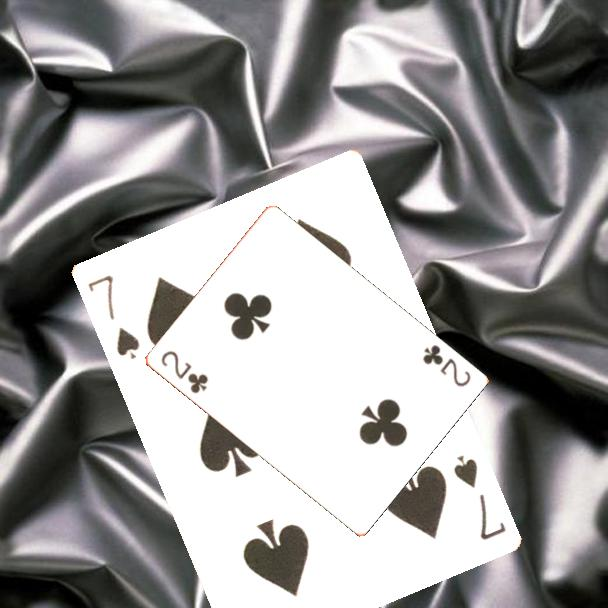c02: (157, 347, 211, 397), (418, 341, 473, 390)
s07: (449, 451, 509, 543), (84, 271, 142, 362)
